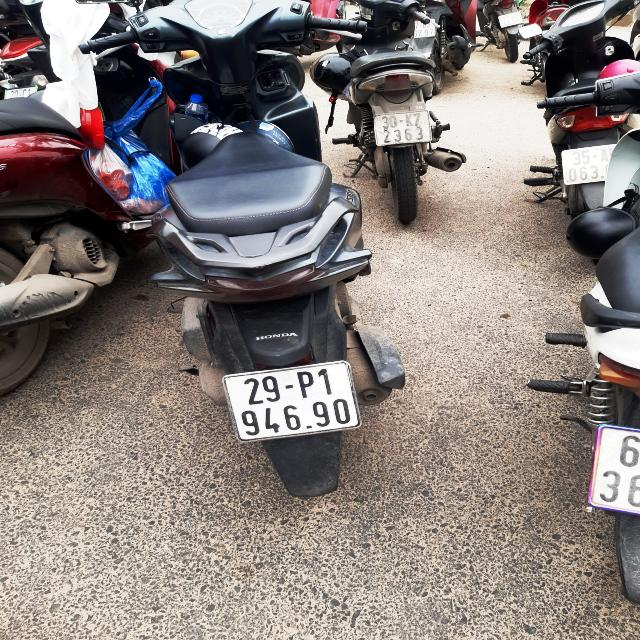license_plate: (214, 356, 370, 449)
